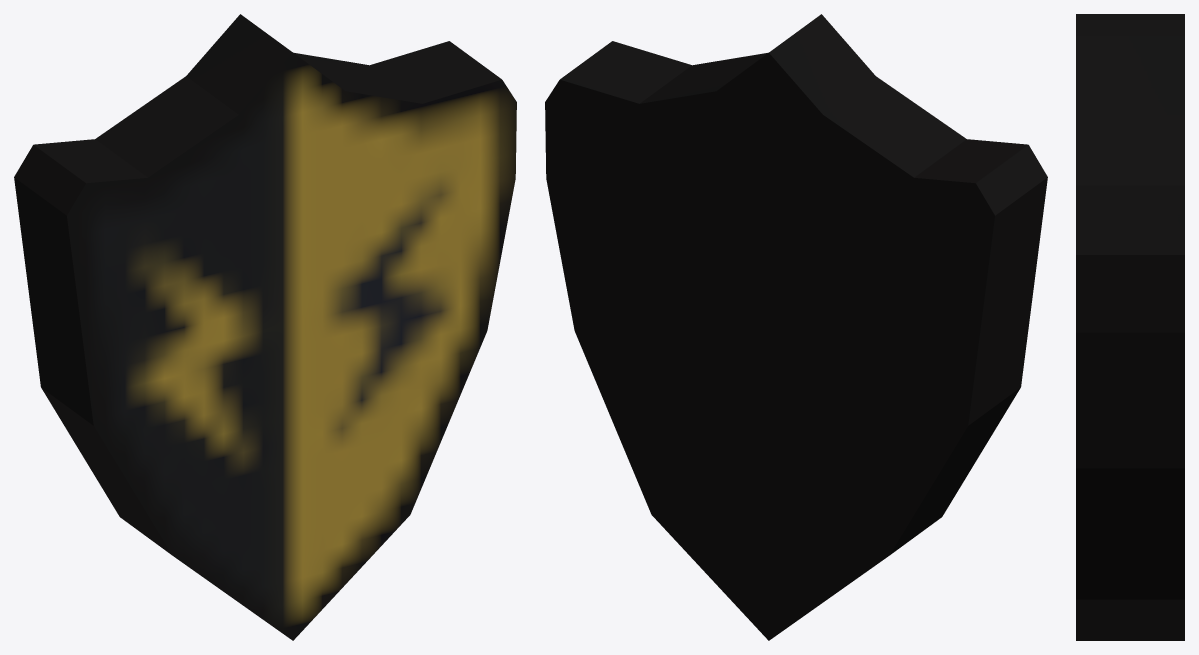
Rendered from SM_Chr_Attach_Patch_Squad_01.fbx.
The picture shows the model from 3 angles, left to right: view 1: azimuth 30°, elevation 25°; view 2: azimuth 150°, elevation 25°; view 3: azimuth 270°, elevation 25°; orthographic projection. The views are drawn at different scales.
Visible parts, largest first — view 1: SM_Chr_Attach_Patch_Squad_01; view 2: SM_Chr_Attach_Patch_Squad_01; view 3: SM_Chr_Attach_Patch_Squad_01.
Part boxes in pixels (left/top/right/bottom): SM_Chr_Attach_Patch_Squad_01: left=14, top=14, right=516, bottom=640; SM_Chr_Attach_Patch_Squad_01: left=545, top=14, right=1047, bottom=640; SM_Chr_Attach_Patch_Squad_01: left=1076, top=14, right=1184, bottom=640.
Size of the model in its own units: 4.78 by 5.97 by 0.972.
